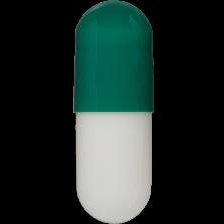50090-1323: (0, 0, 224, 224)
